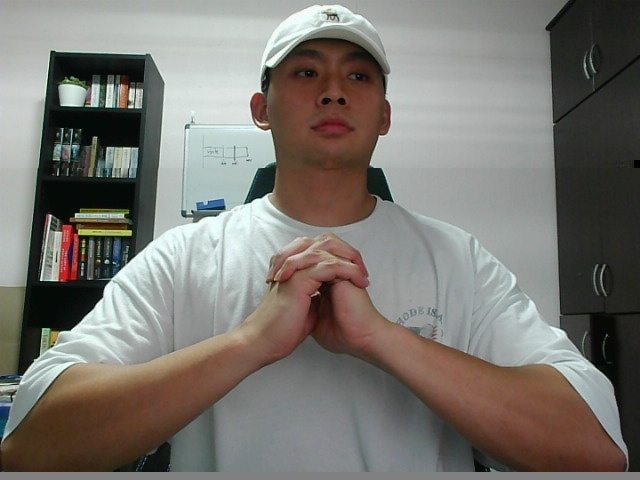Serpent: (234, 213, 402, 381)
